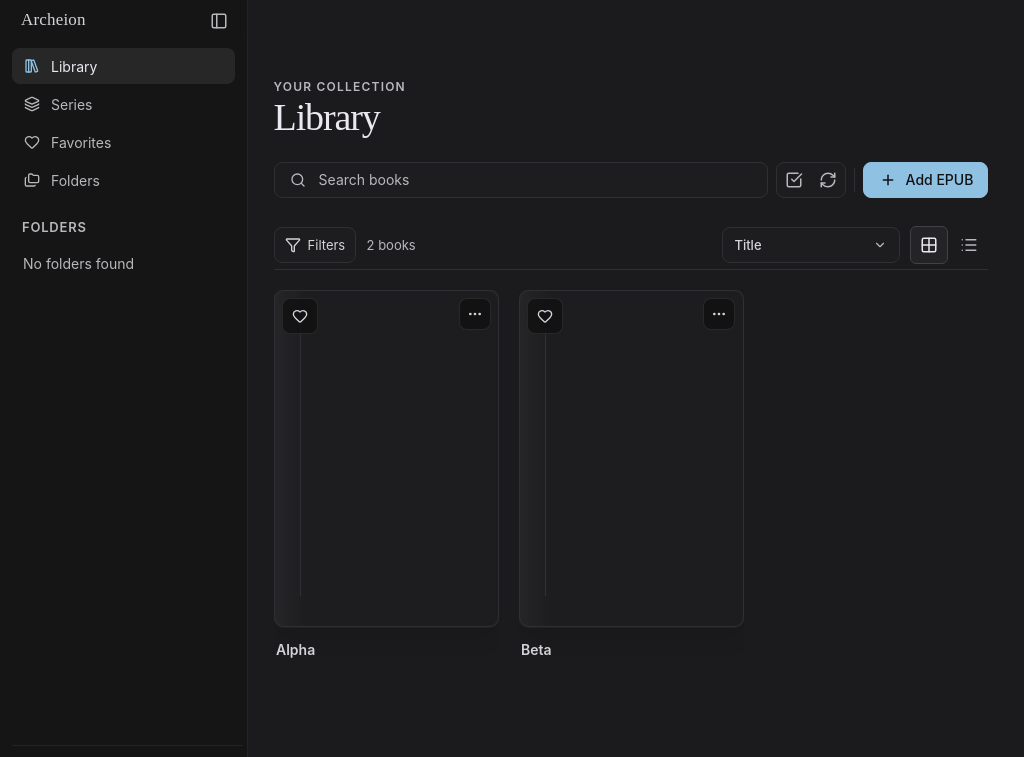
Scenario: LibraryPage mutation focus › restores the original book control when deletion fails
The image size is (1024, 757).
Step 1. Click the button named "Actions for Beta" → (720,314), box left=704, top=298, right=736, bottom=330
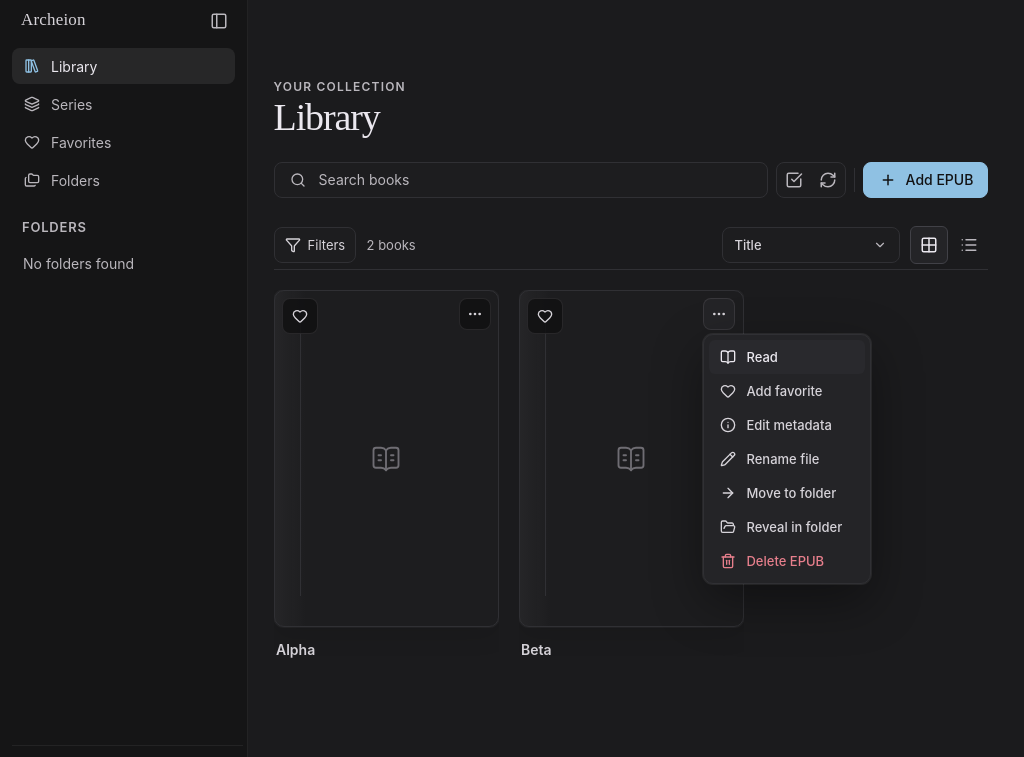
Step 2. Click the menu item "Delete EPUB" → (788,561), box left=710, top=544, right=866, bottom=578
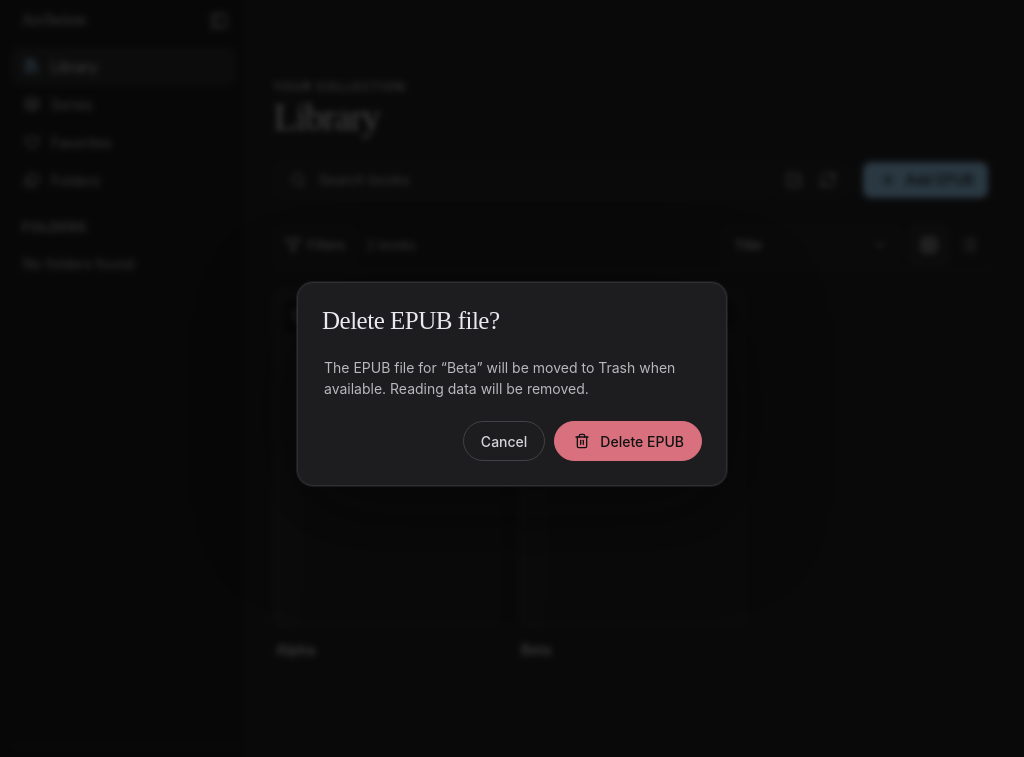
Step 3. Click the button "Delete EPUB" → (628,441), box left=554, top=421, right=702, bottom=461
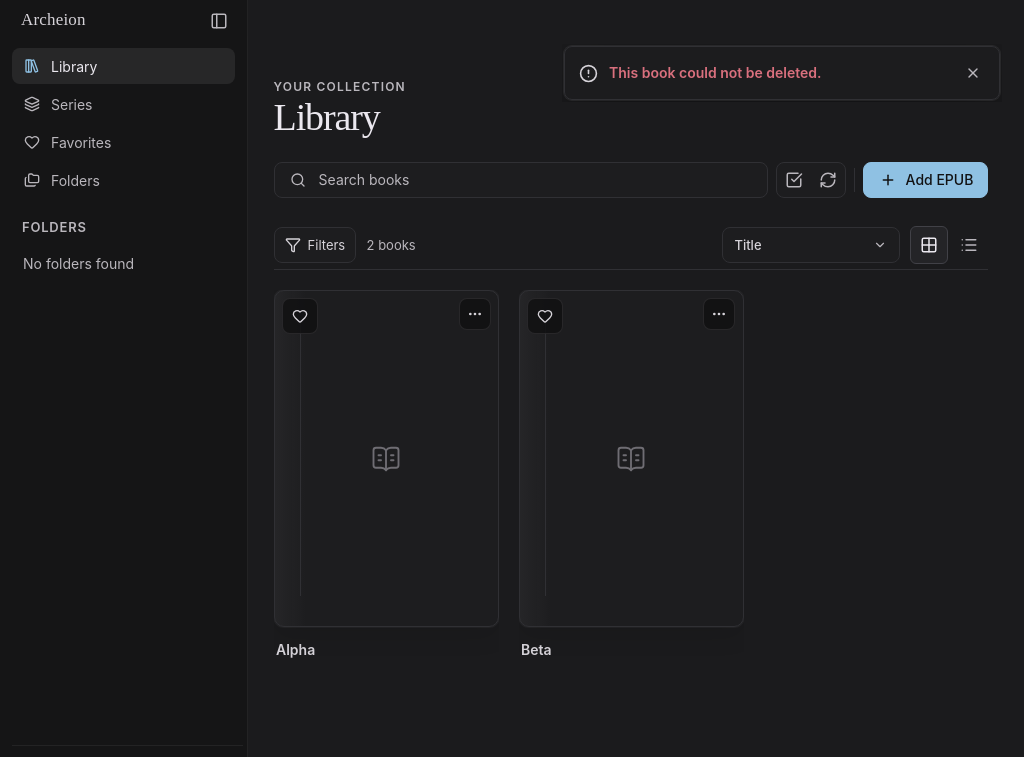
Expected: the text "This book could not be deleted." is shown, left=609, top=64, right=822, bottom=80
